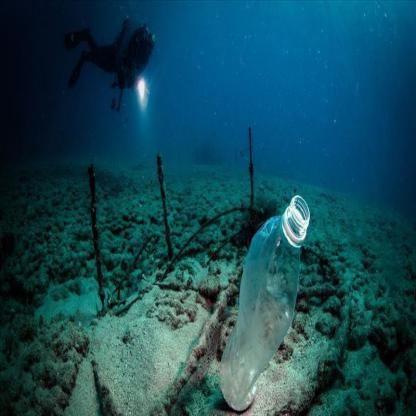bottle: (221, 196, 310, 411)
